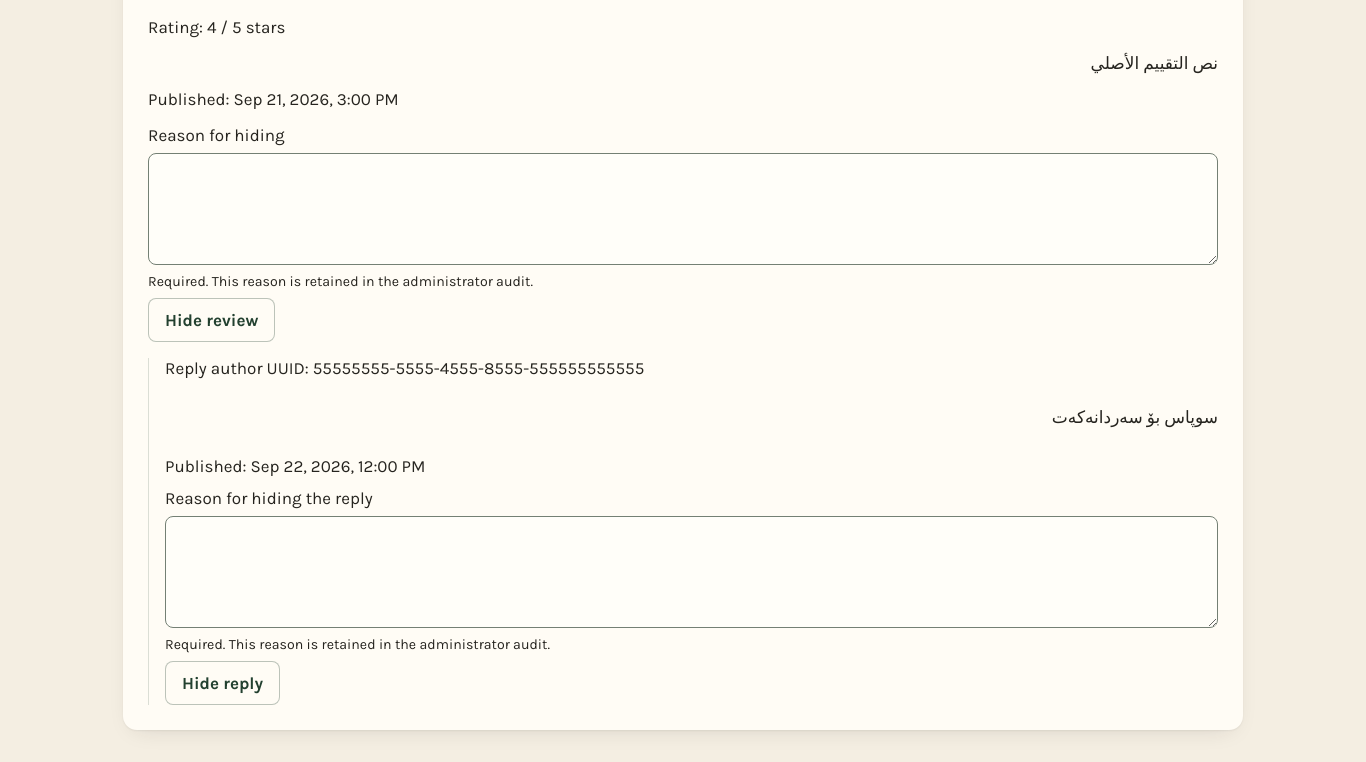
Scenario: CustomerReviewModeration › reports a rejected reply hide action as unavailable and keeps the form
(page scrolled)
Type "Reply names a competitor" into the text box labelled "Reason for hiding the reply" at [692, 572], box [165, 516, 1218, 628]
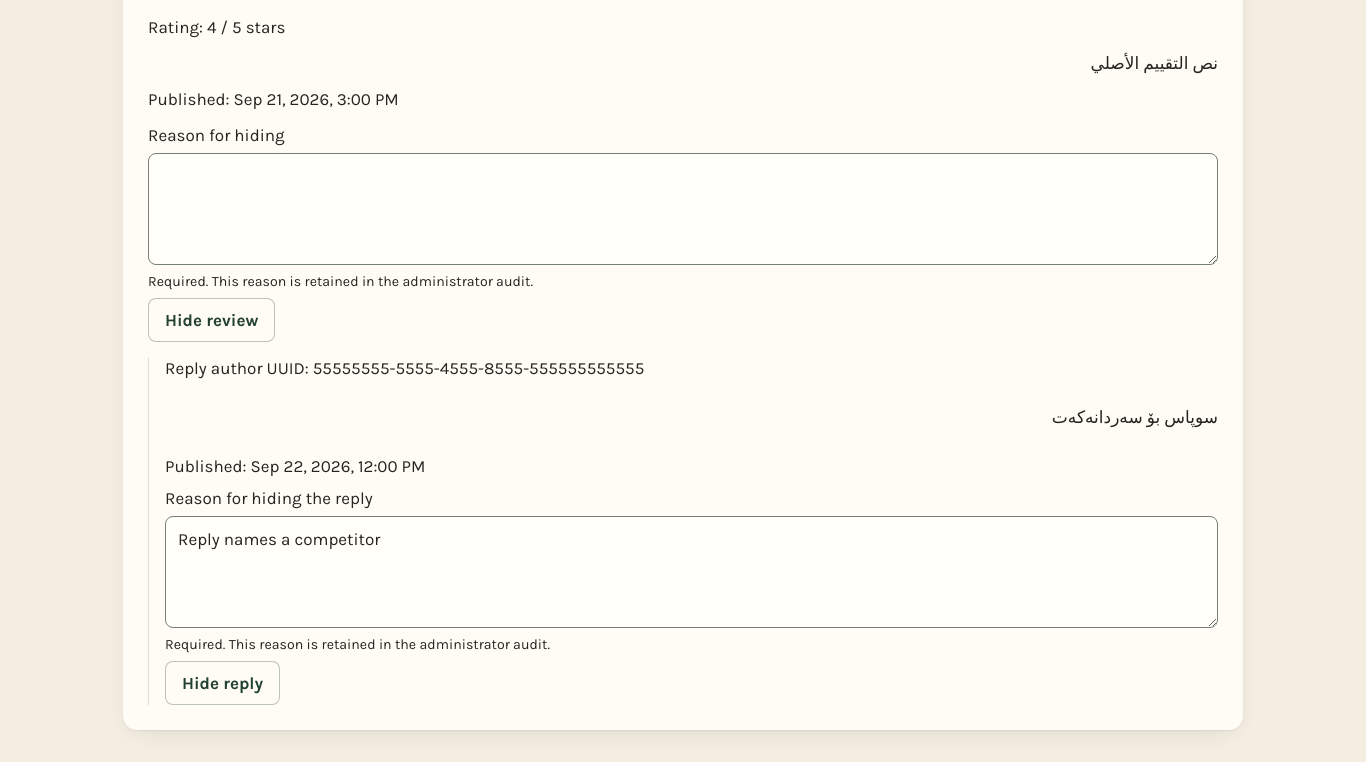
Click the button "Hide reply" at [223, 683], box [165, 661, 280, 705]
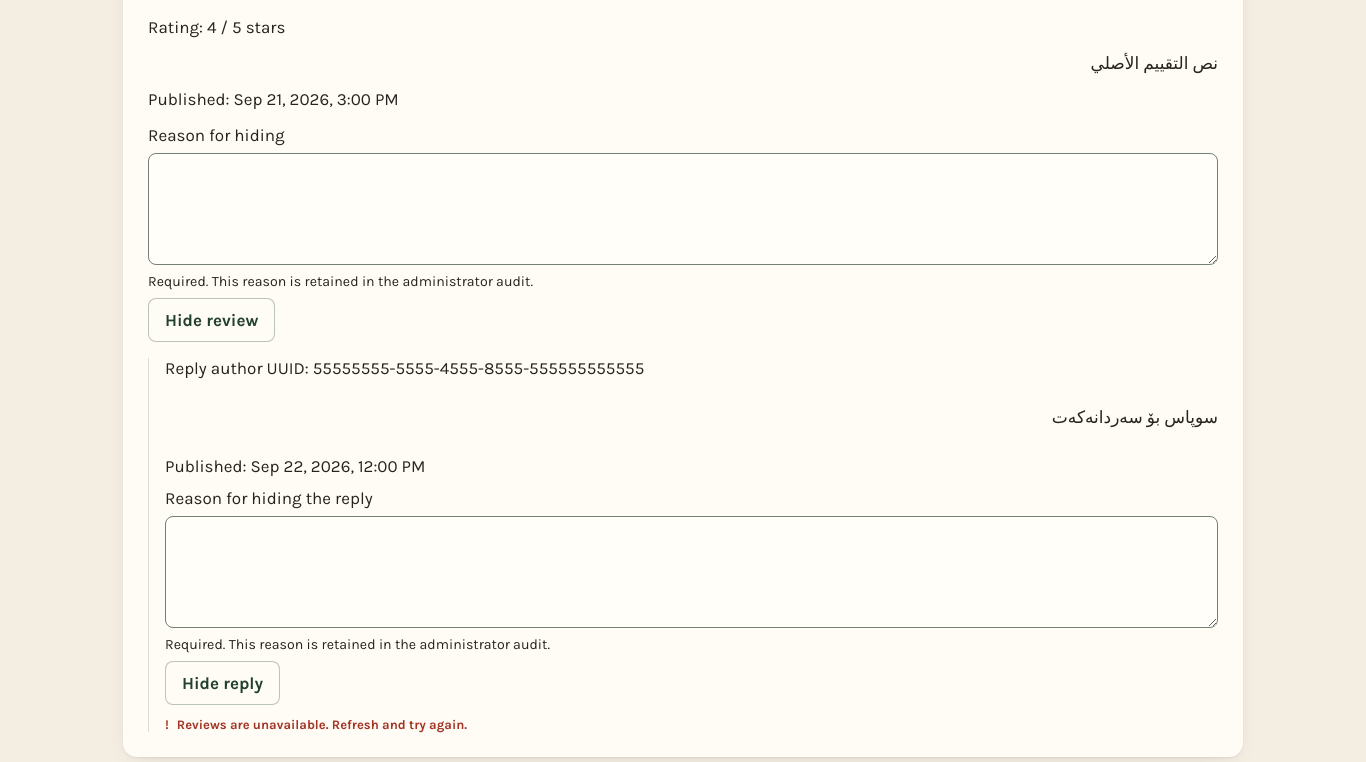
Expected: the element named "Cottage Owner reply" does not show "Reply names a competitor", [148, 358, 1218, 732]
Expected: the message shows "Reviews are unavailable. Refresh and try again.", [177, 717, 467, 732]
